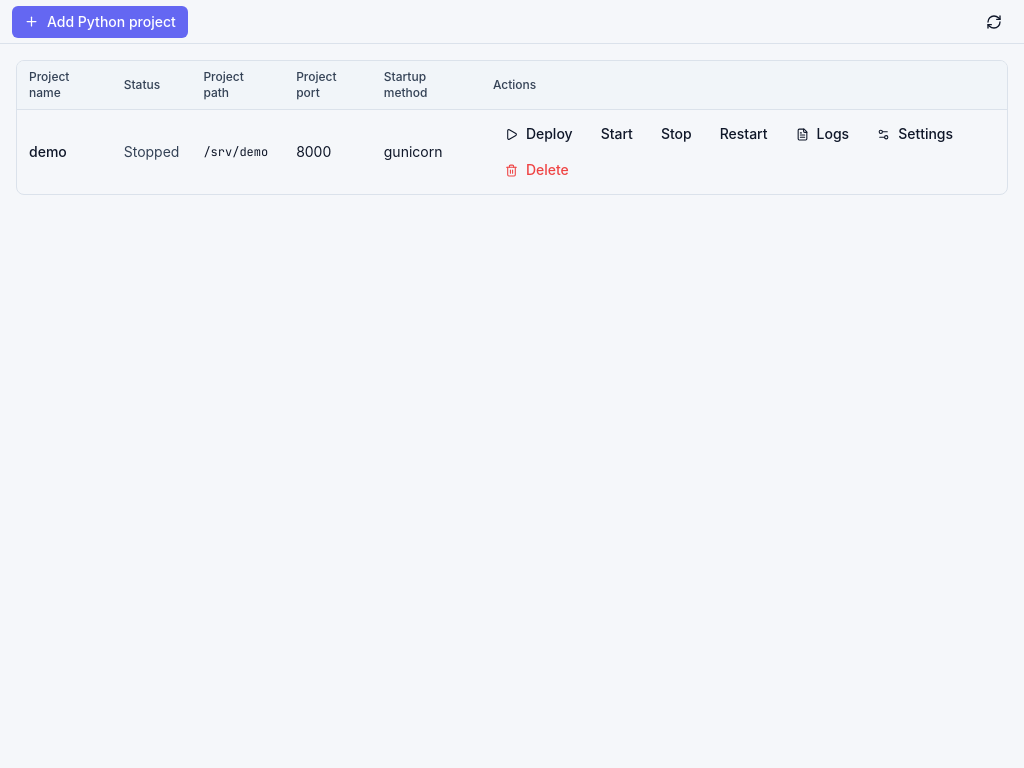
Scenario: Python project lifecycle › keeps failed control visible without a success message
The width and height of the screenshot is (1024, 768).
Click the button "Restart" at (744,134), box [708,118,780,150]
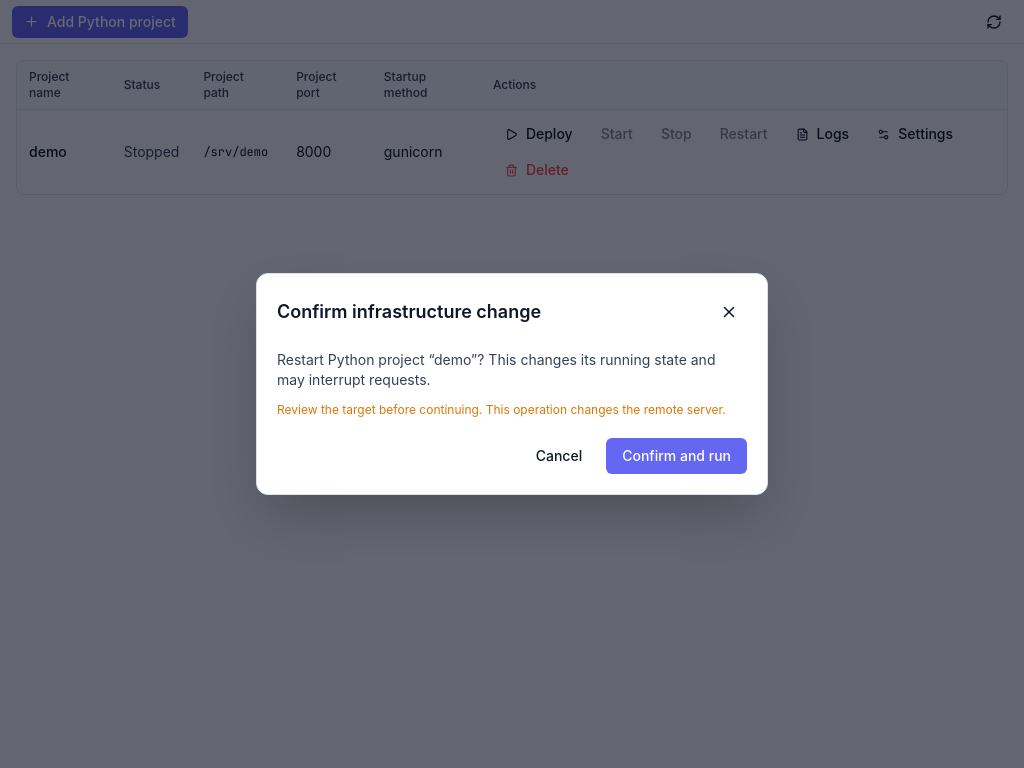
Click the button "Confirm and run" at (677,456), box [606,438,747,474]
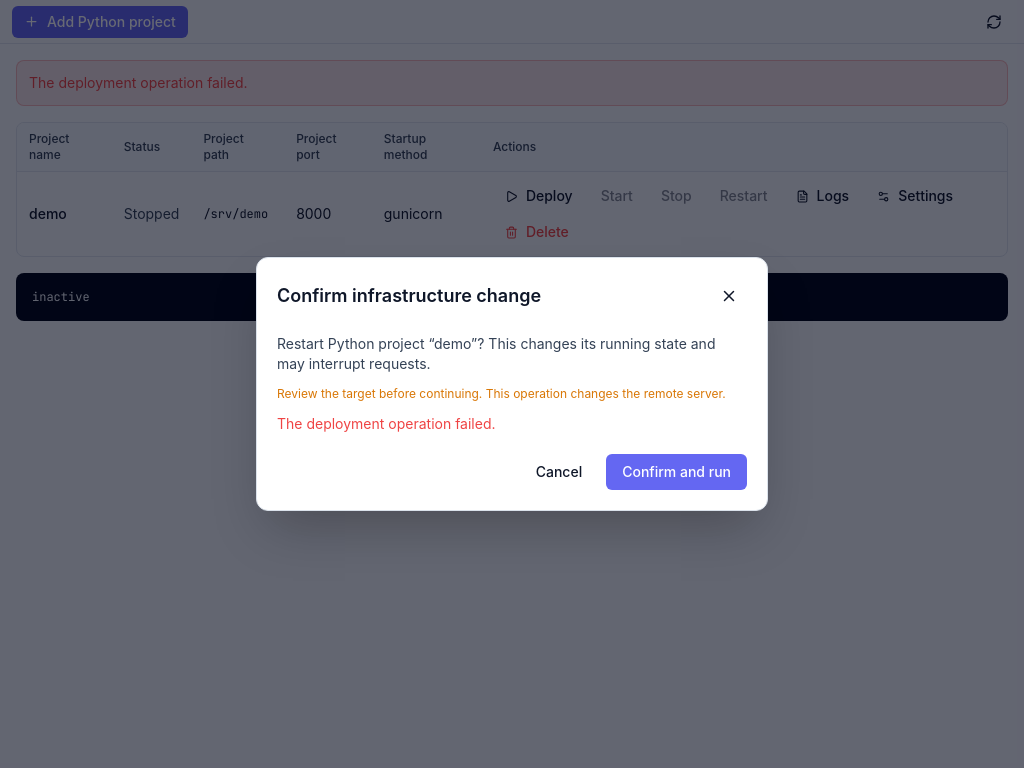
Expected: the text "The deployment operation failed." is shown, [16,60,1008,106]
